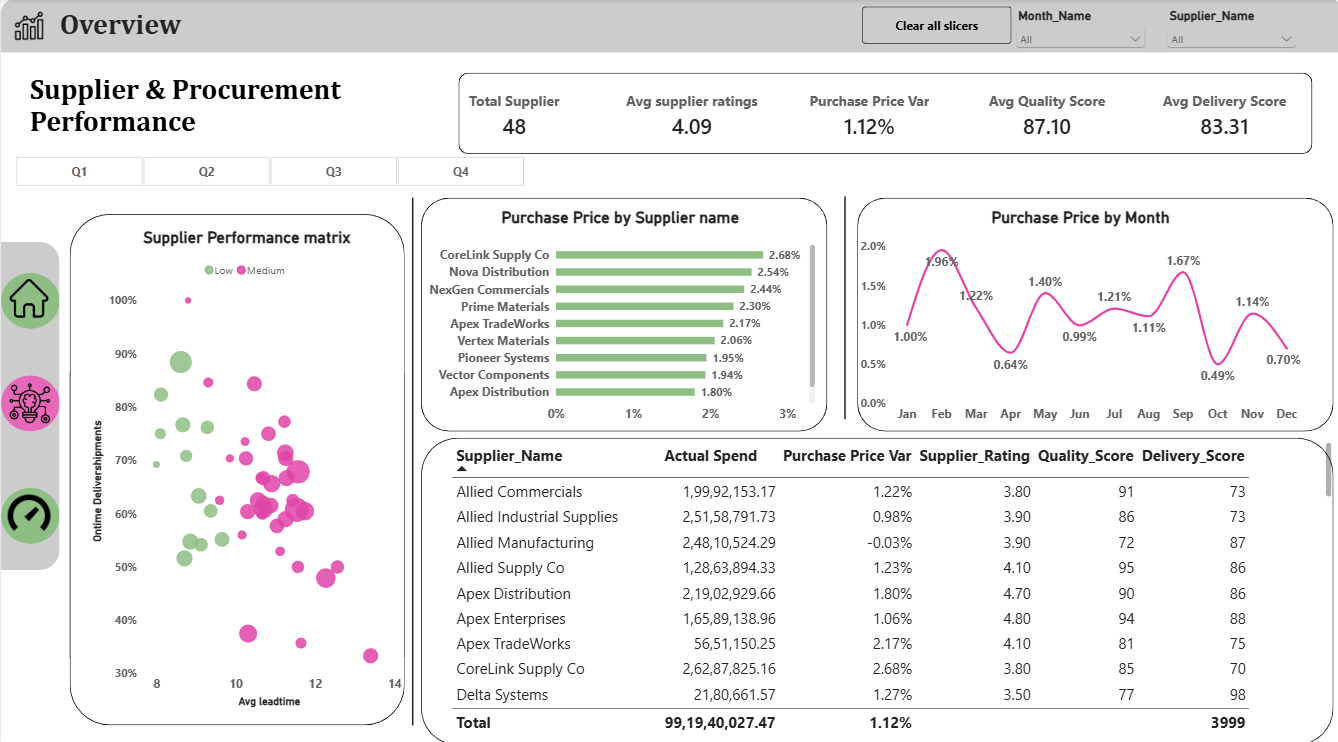

The dashboard page shown, as its layout file describes it:
{"tool":"powerbi","page":{"name":"Supplier & Procurement Performance ","canvas":[1800,1000],"ordinal":1},"visuals":[{"type":"shape","box":[0,0,1799.6,72.1],"z":0},{"type":"textbox","box":[78.8,11.7,194.4,48.6],"z":1000},{"type":"image","box":[18.4,0,38.5,72.1],"z":2000},{"type":"textbox","box":[39.1,99.5,467.4,108.4],"z":3000},{"type":"cardVisual","fields":{"Data":["_Measures2.Total Supplier","_Measures2.Avg supplier ratings","_Measures2.Purchase Price Var","_Measures2.Avg Quality Score","_Measures2.Avg Delivery Score"]},"box":[572.3,104.9,1185.4,103.1],"z":4000},{"type":"slicer","fields":{"Values":["Dim_date.Month_Name"]},"box":[1355.6,11.7,183.1,60.4],"z":5000},{"type":"slicer","fields":{"Values":["Dim_Supplier.Supplier_Name"]},"box":[1558.3,11.7,183.1,69.3],"z":6000},{"type":"slicer","fields":{"Values":["Dim_date.Quarter"]},"box":[0,209.5,719.8,42.7],"z":7000},{"type":"scatterChart","title":"Supplier Performance matrix","fields":{"X":["_Measures.Avg leadtime"],"Y":["_Measures.Ontime Delivershipments"],"Category":["Dim_Supplier.Supplier_Name"],"Series":["Dim_Supplier.Risk_Level"],"Size":["_Measures.Actual Spend"]},"box":[104.9,293.2,447.9,671.8],"z":8000},{"type":"clusteredBarChart","title":"Purchase Price by Supplier name","fields":{"Y":["_Measures2.Purchase Price Var"],"Category":["Dim_Supplier.Supplier_Name"]},"box":[552.7,266.6,554.5,321.7],"z":9000},{"type":"lineChart","title":"Purchase Price by Month","fields":{"Y":["_Measures2.Purchase Price Var"],"Category":["Dim_date.Month_Name"]},"box":[1135.7,266.6,622,321.7],"z":10000},{"type":"tableEx","fields":{"Values":["Dim_Supplier.Supplier_Name","_Measures.Actual Spend","_Measures2.Purchase Price Var","Dim_Supplier.Supplier_Rating","Dim_Supplier.Quality_Score","Dim_Supplier.Delivery_Score"]},"box":[588.3,579.4,1212.1,421.2],"z":11000},{"type":"shape","box":[0,325.1,78.8,440.7],"z":12000},{"type":"shape","box":[0,367,78.8,75.4],"z":13000},{"type":"shape","box":[0,504.4,78.8,75.4],"z":14000},{"type":"shape","box":[0,655.2,78.8,75.4],"z":15000},{"type":"image","box":[6.7,375.3,62,51.9],"z":16000},{"type":"image","box":[3.4,514.4,70.4,55.3],"z":17000},{"type":"image","box":[0,661.9,75.4,62],"z":18000},{"type":"shape","box":[1126,264.7,10.7,298.6],"z":19000},{"type":"shape","box":[541.2,266.4,21.3,707.3],"z":20000},{"type":"shape","box":[613.3,98.9,1144.4,108.9],"z":21000},{"type":"shape","box":[92.2,288.2,449.1,685.3],"z":22000},{"type":"shape","box":[563,266.4,544.6,313.3],"z":23000},{"type":"shape","box":[1147.8,266.4,638.4,313.3],"z":24000},{"type":"shape","box":[563,588.1,1223.2,412.2],"z":25000},{"type":"actionButton","box":[1154.5,10.1,200,50],"z":26000}]}

Visuals, with their boxes in screenshot pixels (x1, y1, x2, y2), scaled from the page's 1800x1000 canvas onto the 1338x742 screenshot:
shape: <region>0, 0, 1337, 53</region>
textbox: <region>59, 9, 203, 45</region>
image: <region>14, 0, 42, 53</region>
textbox: <region>29, 74, 376, 154</region>
cardVisual - _Measures2.Total Supplier x _Measures2.Avg supplier ratings: <region>425, 78, 1307, 154</region>
slicer - Dim_date.Month_Name: <region>1008, 9, 1144, 53</region>
slicer - Dim_Supplier.Supplier_Name: <region>1158, 9, 1294, 60</region>
slicer - Dim_date.Quarter: <region>0, 155, 535, 187</region>
"Supplier Performance matrix" scatterChart: <region>78, 218, 411, 716</region>
"Purchase Price by Supplier name" clusteredBarChart: <region>411, 198, 823, 437</region>
"Purchase Price by Month" lineChart: <region>844, 198, 1307, 437</region>
tableEx - Dim_Supplier.Supplier_Name x _Measures.Actual Spend: <region>437, 430, 1337, 741</region>
shape: <region>0, 241, 59, 568</region>
shape: <region>0, 272, 59, 328</region>
shape: <region>0, 374, 59, 430</region>
shape: <region>0, 486, 59, 542</region>
image: <region>5, 278, 51, 317</region>
image: <region>3, 382, 55, 423</region>
image: <region>0, 491, 56, 537</region>
shape: <region>837, 196, 845, 418</region>
shape: <region>402, 198, 418, 722</region>
shape: <region>456, 73, 1307, 154</region>
shape: <region>69, 214, 402, 722</region>
shape: <region>418, 198, 823, 430</region>
shape: <region>853, 198, 1328, 430</region>
shape: <region>418, 436, 1328, 741</region>
actionButton: <region>858, 7, 1007, 45</region>
